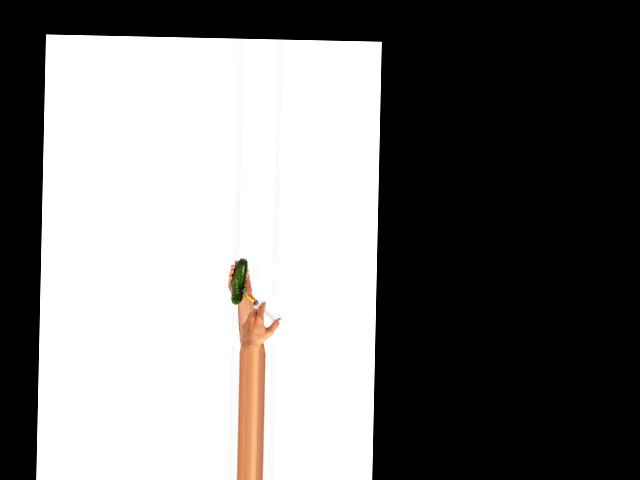cucumber: (231, 257, 247, 304)
